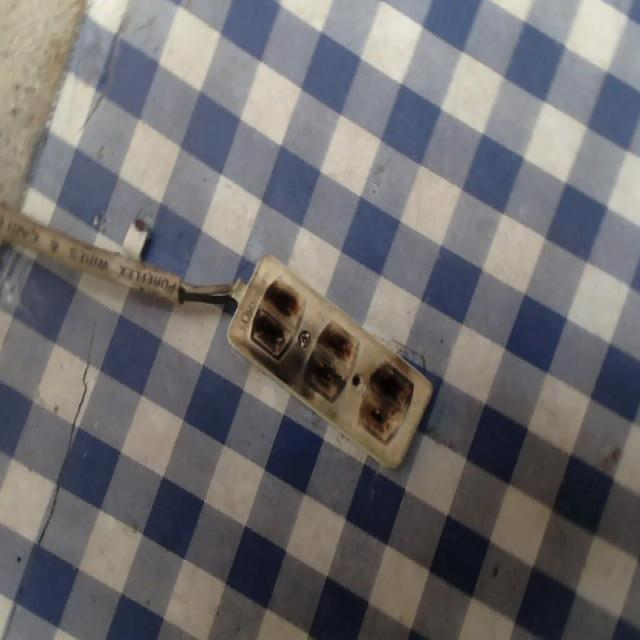-: (304, 314, 357, 406), (357, 354, 410, 442), (248, 277, 304, 360)
